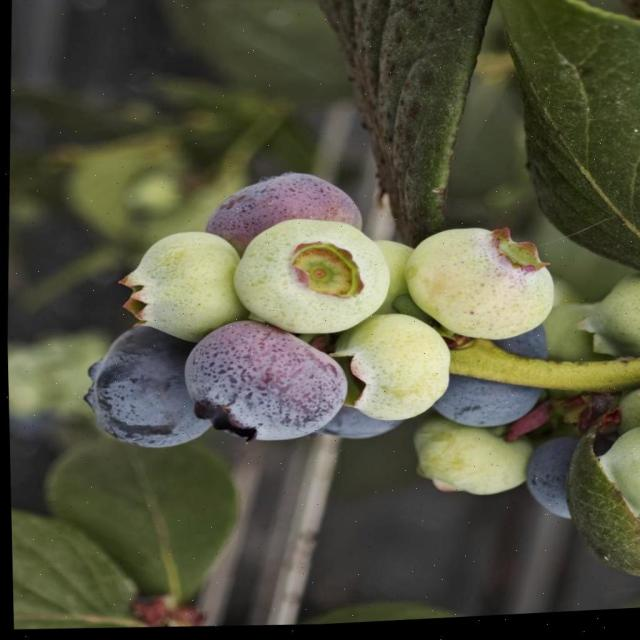RipeBlueBerry: (75, 322, 209, 457)
Semi-RipeBlueBerry: (176, 317, 350, 452)
UnripeBlueBerry: (223, 214, 393, 346), (398, 224, 558, 353)
